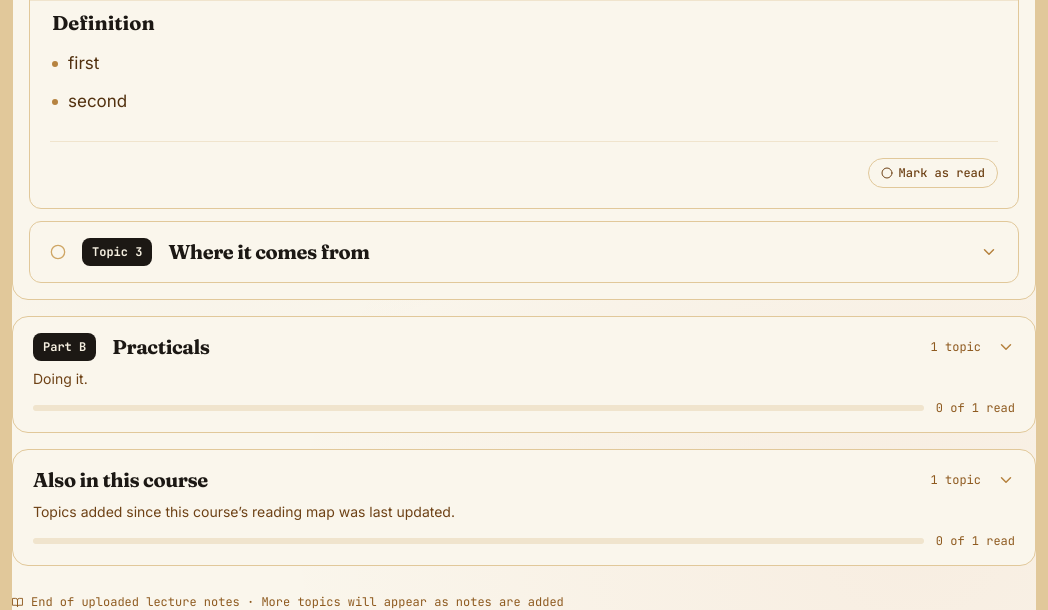
Test: grouping the notes by part › keeps a topic the map has not placed rather than dropping it off the page
(page scrolled)
Click the button "Also in this course" at (120, 480), box left=13, top=450, right=1035, bottom=565
(page scrolled)
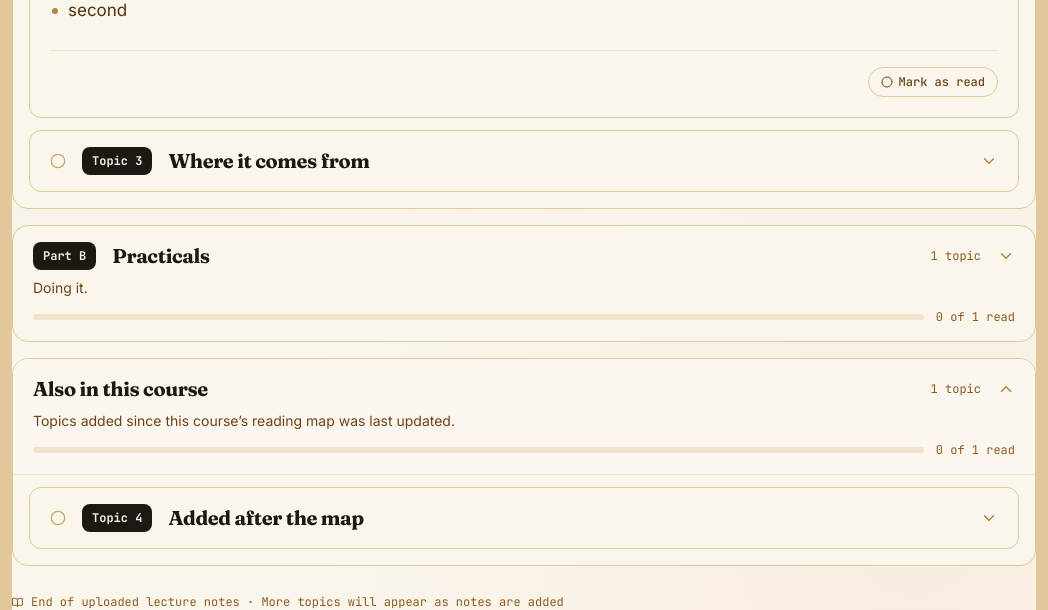
Check: the button "Topic 4 Added after the map" is shown, box left=30, top=488, right=1018, bottom=548
